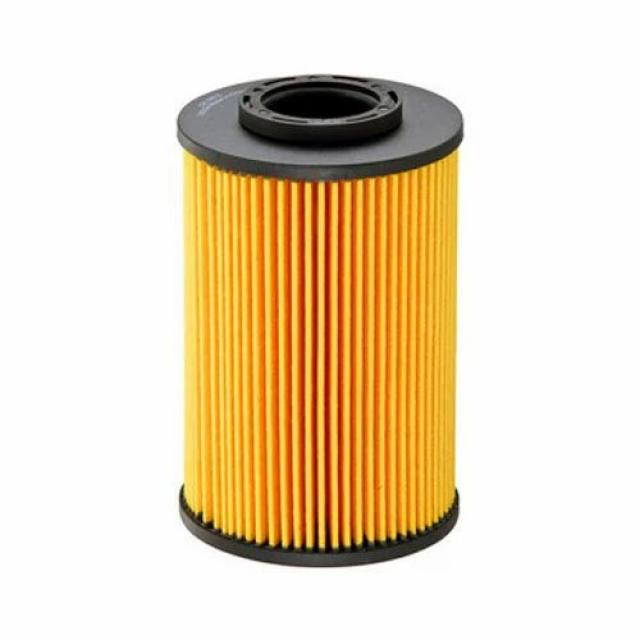oil_filter: (176, 56, 466, 569)
